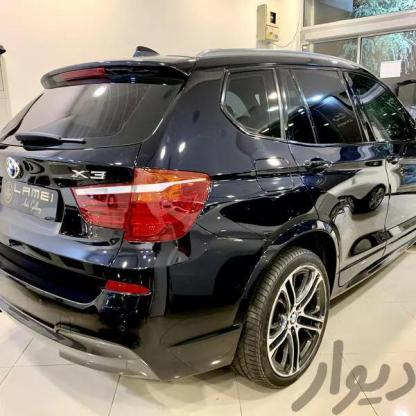Car: (0, 43, 416, 386)
